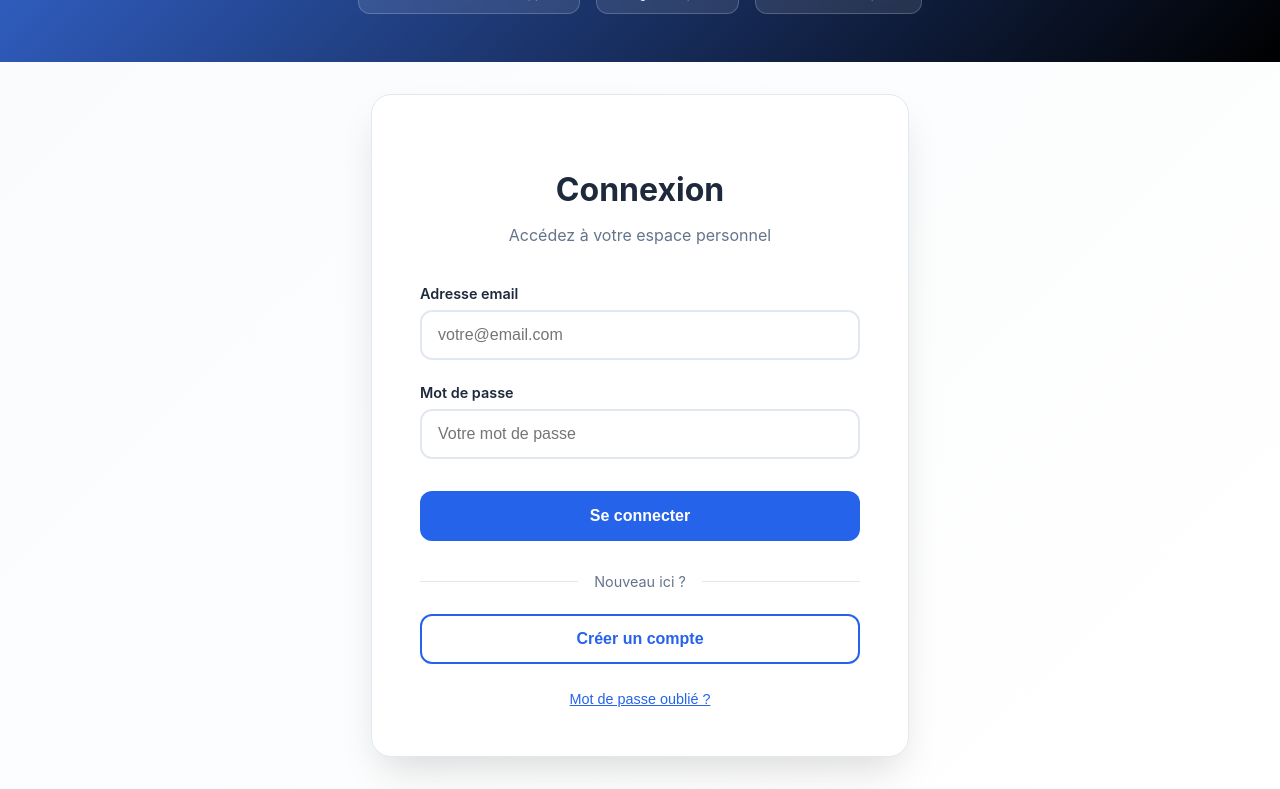
Test case: Login Component › Validation › email="" password="password123" → "Veuillez remplir tous les champs"
(page scrolled)
Type "password123" into the password field labelled "Mot de passe" at (640, 434), box x1=420 y1=408 x2=860 y2=458
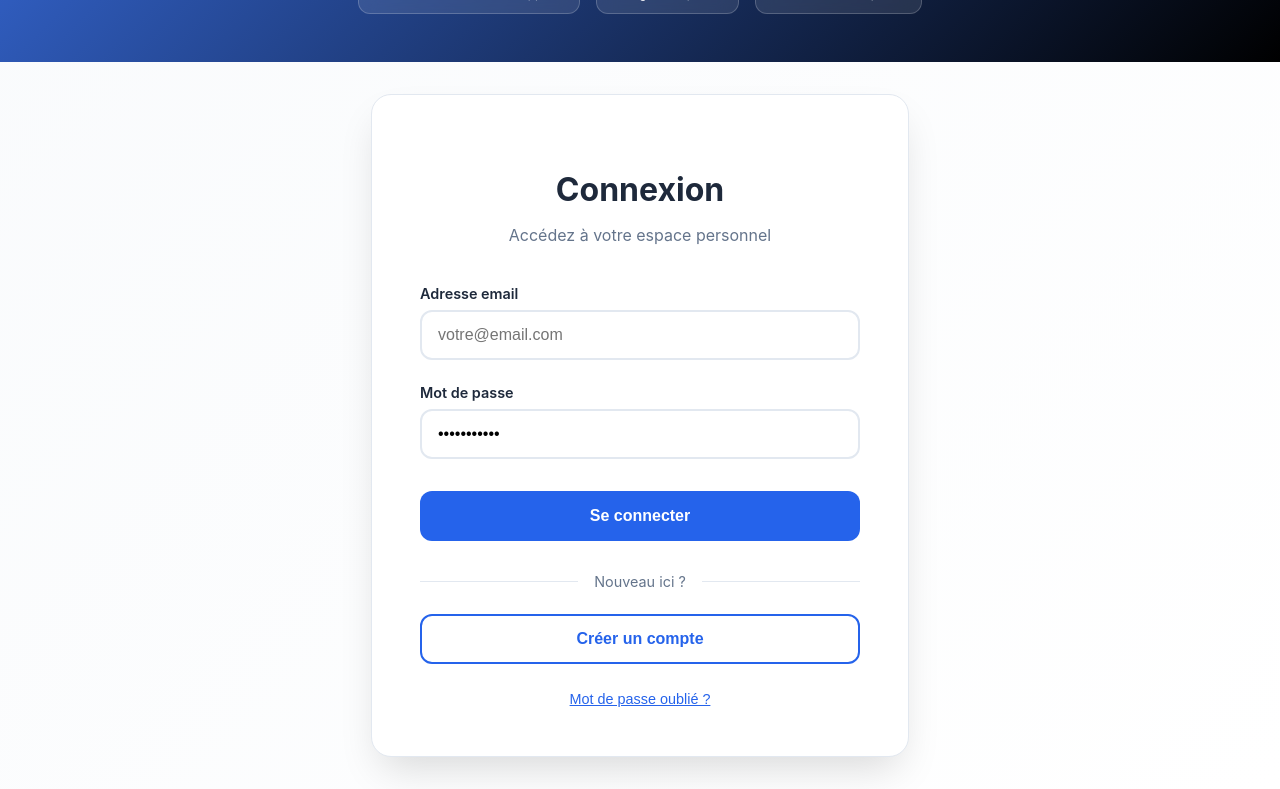
Click the button "Se connecter" at (640, 516), box x1=420 y1=490 x2=860 y2=540
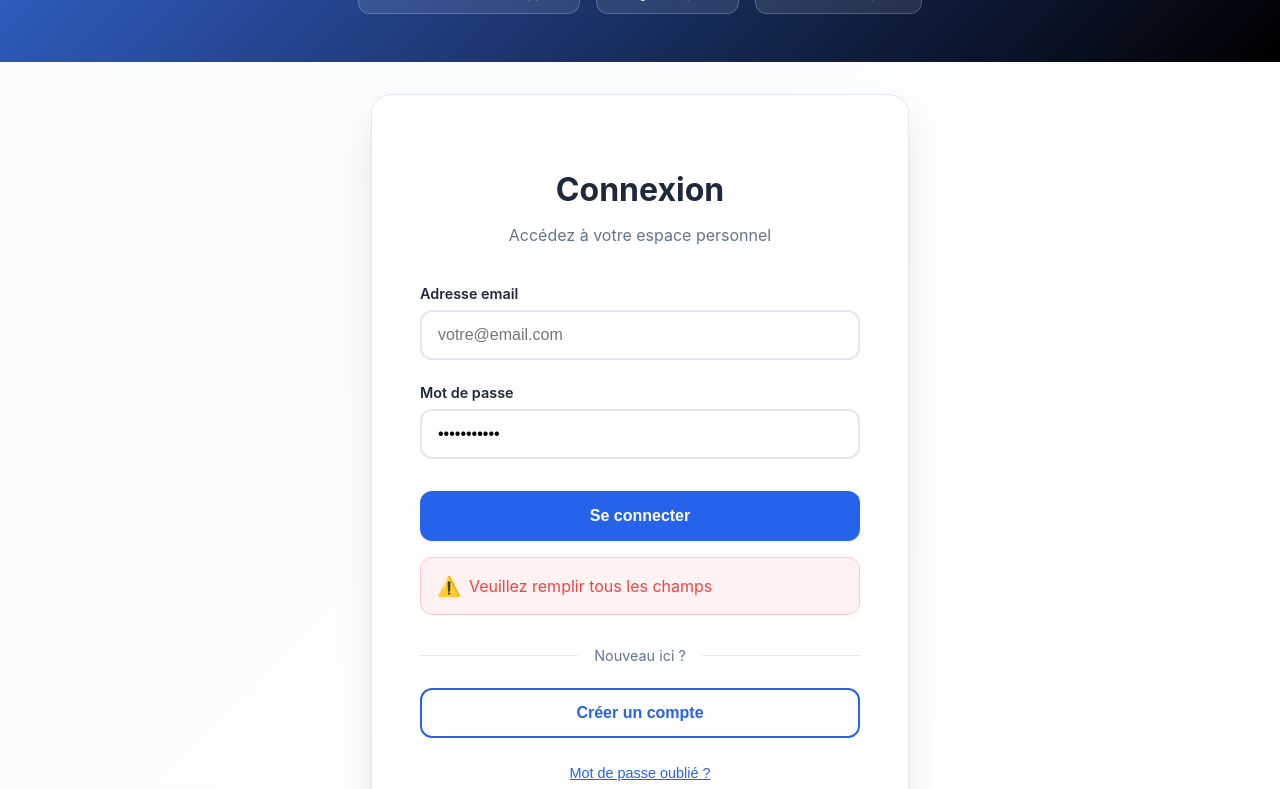
Now the text "Veuillez remplir tous les champs" is shown, box x1=469 y1=576 x2=712 y2=596
